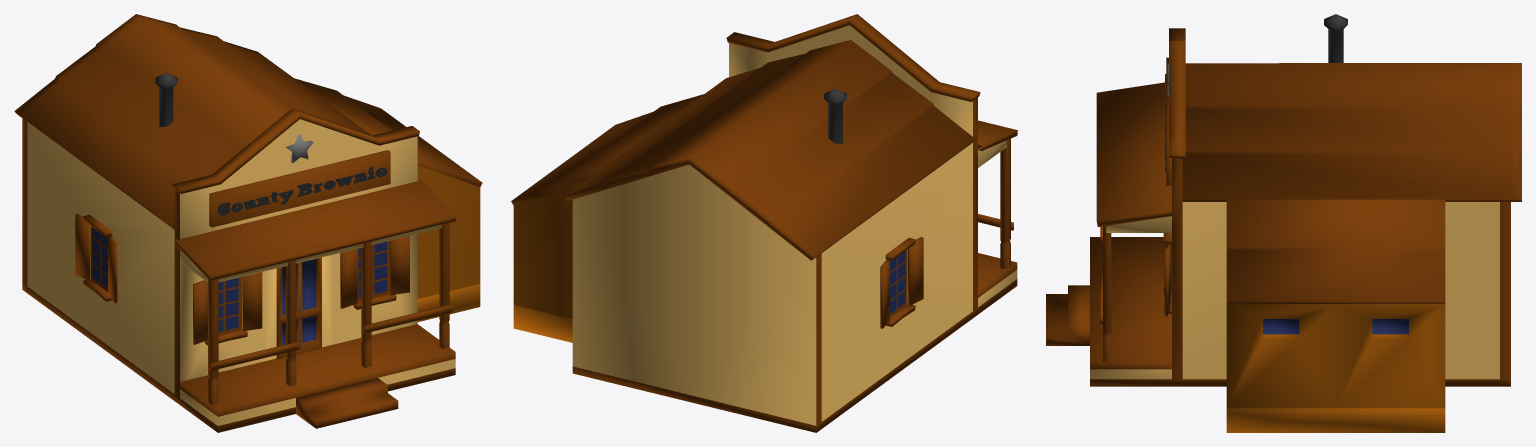
The model's file is Western_CountyBrownie.fbx.
3 renders of one model, left to right at view 1: azimuth 30°, elevation 25°; view 2: azimuth 150°, elevation 25°; view 3: azimuth 270°, elevation 25°, orthographic. The views are drawn at different scales.
Visible parts, largest first — view 1: WesternBuilding_CountyBrownie; view 2: WesternBuilding_CountyBrownie; view 3: WesternBuilding_CountyBrownie.
Part boxes in pixels (x1,y1,x2,y2): WesternBuilding_CountyBrownie: [14, 14, 482, 432]; WesternBuilding_CountyBrownie: [511, 14, 1017, 432]; WesternBuilding_CountyBrownie: [1046, 14, 1521, 432].
Size of the model in its own units: 761 by 571 by 870.
1 material, 1 textured.
